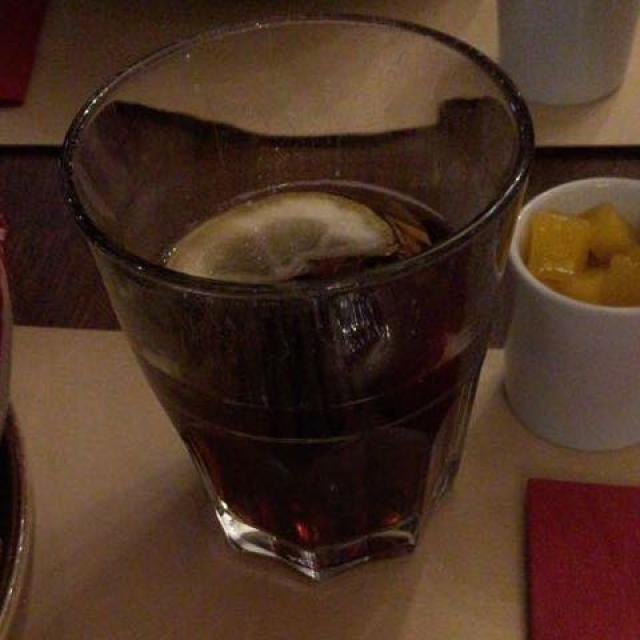drink: (118, 173, 488, 542)
lemon: (174, 195, 387, 280)
